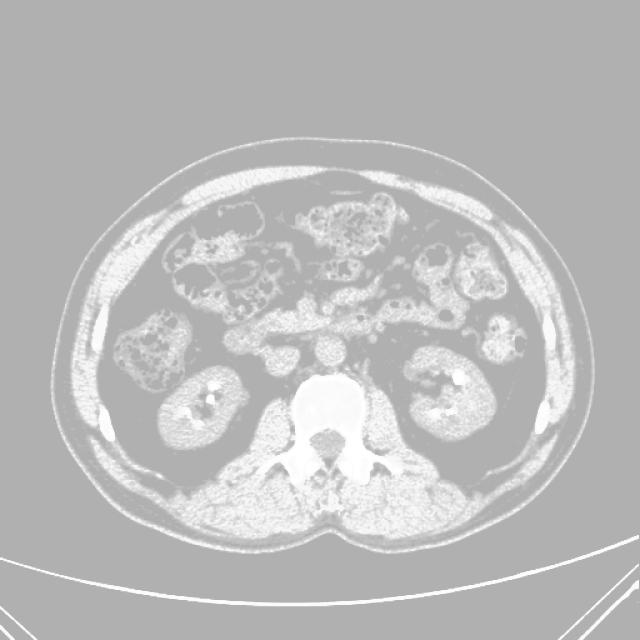STONE: (139, 323, 512, 474)
